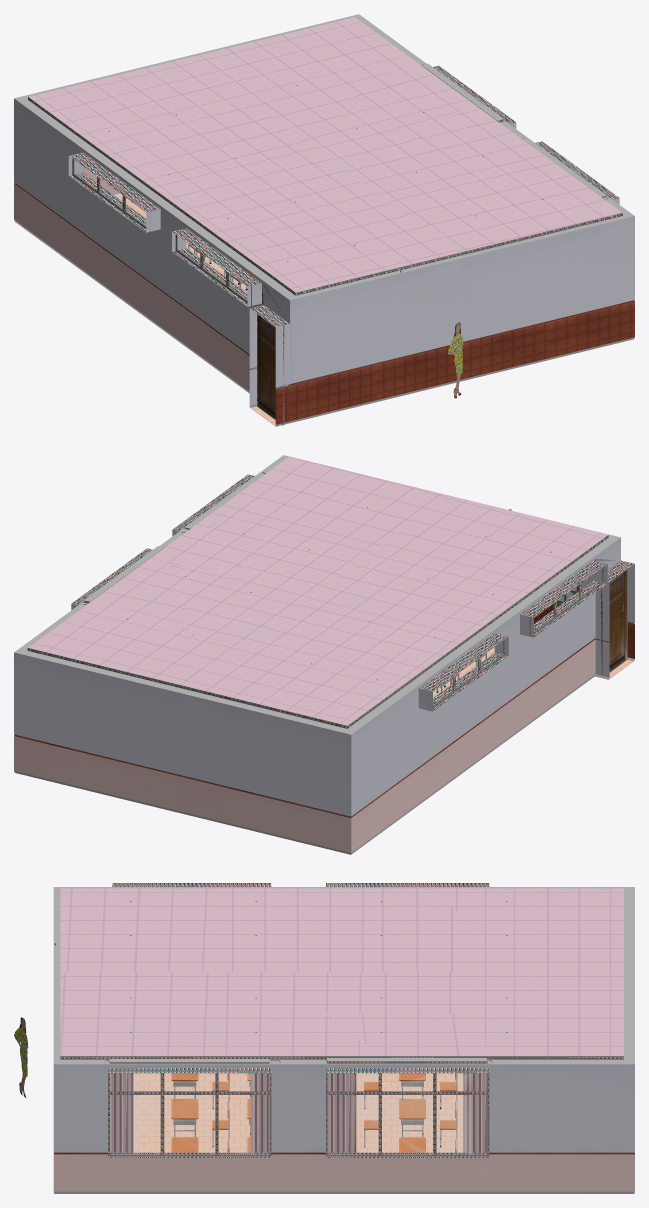
The model's file is classroom.glb.
3 renders of one model, top to bottom at view 1: azimuth 30°, elevation 25°; view 2: azimuth 150°, elevation 25°; view 3: azimuth 270°, elevation 25°, orthographic. The views are drawn at different scales.
Visible parts, largest first — view 1: Material2 (×2); view 2: Material2 (×2); view 3: Material2 (×3).
Part boxes in pixels (x1,y1,x2,y2): Material2 (×2): [14, 14, 634, 426]; Material2 (×2): [14, 455, 634, 854]; Material2 (×3): [53, 883, 634, 1193].
Bounding box in the file's own units: 339 × 111 × 467.
9 materials, 2 textured.
